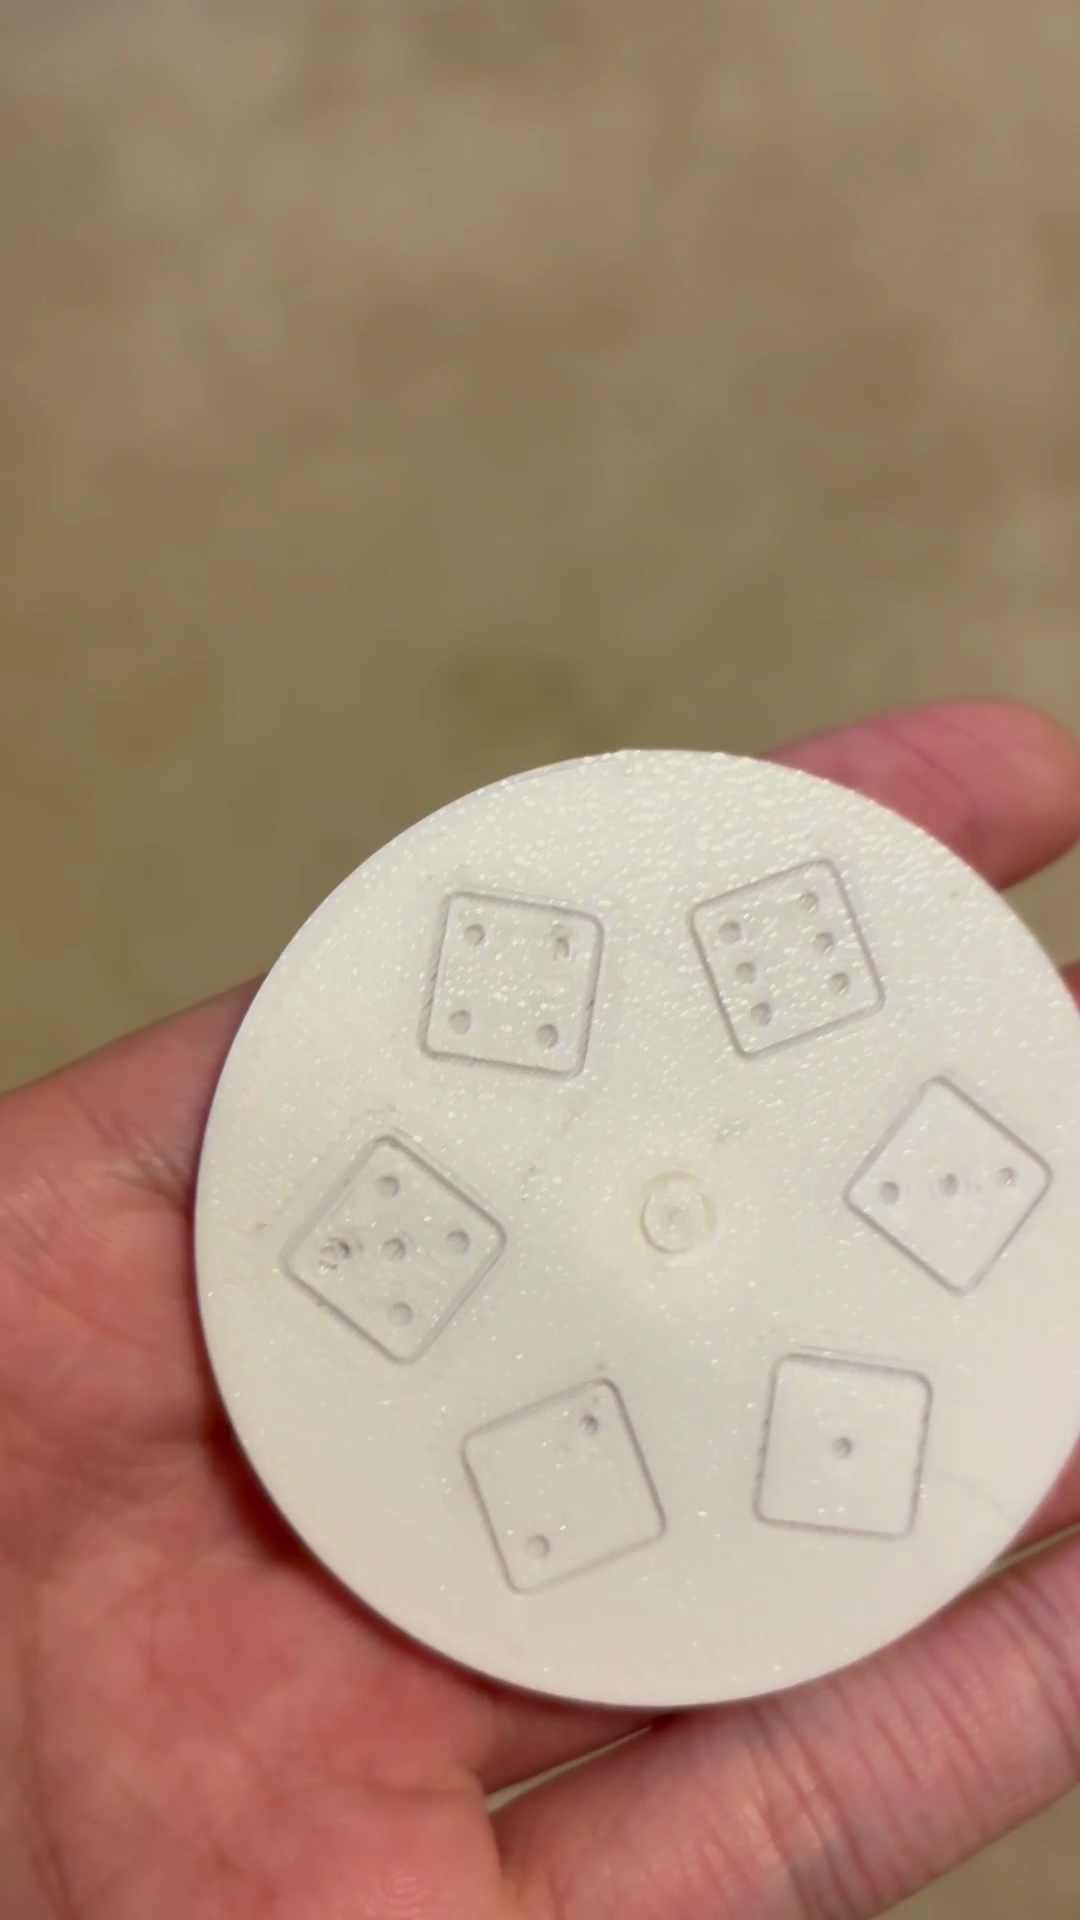Part1: (195, 752, 1079, 1709)
